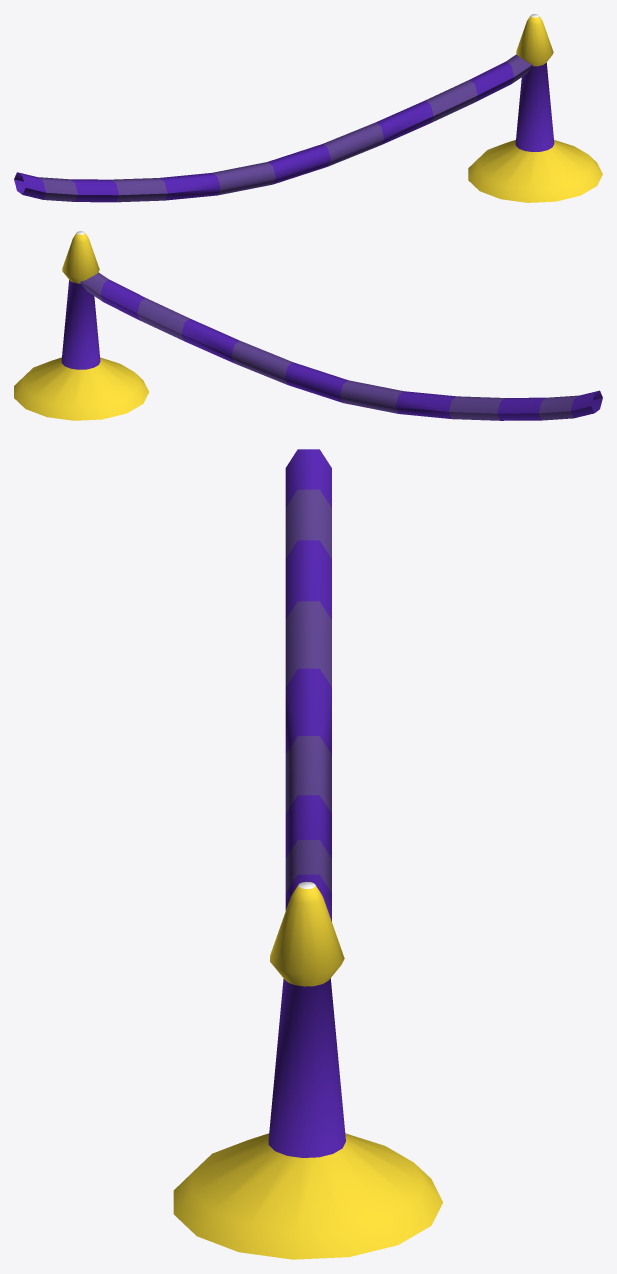
Rendered from SM_barrier.fbx.
The picture shows the model from 3 angles, top to bottom: view 1: azimuth 30°, elevation 25°; view 2: azimuth 150°, elevation 25°; view 3: azimuth 270°, elevation 25°; orthographic projection. The views are drawn at different scales.
Parts seen in each view (by area): view 1: Cylinder.003; view 2: Cylinder.003; view 3: Cylinder.003.
Boxes of the visible parts, x1,y1,x2,y2 form: Cylinder.003: (14, 14, 602, 202); Cylinder.003: (14, 231, 602, 420); Cylinder.003: (173, 449, 442, 1259).
Bounding box in the file's own units: 441 × 116 × 89.73.
